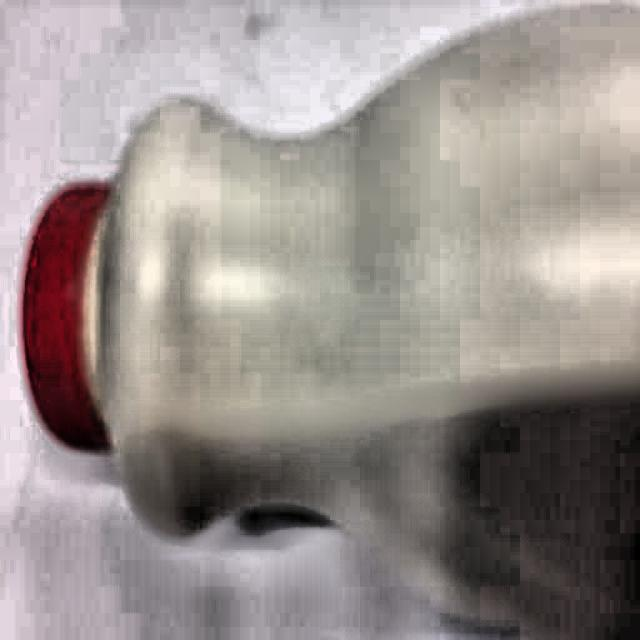plastic: (15, 86, 640, 624)
